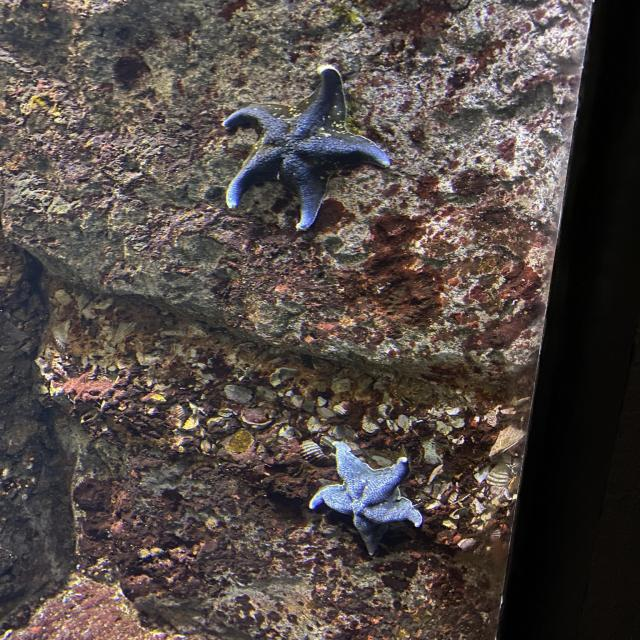starfish: (221, 65, 391, 231), (308, 441, 423, 557)
